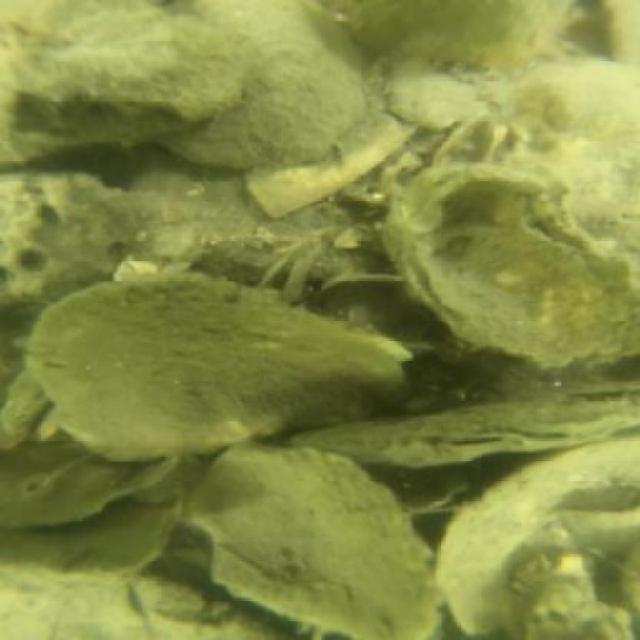Oyster-Closed: (285, 397, 638, 470)
Oyster-Indeterminate: (25, 272, 417, 464), (177, 441, 445, 638), (384, 162, 634, 370), (146, 0, 366, 169), (0, 2, 246, 124), (334, 0, 577, 70)
